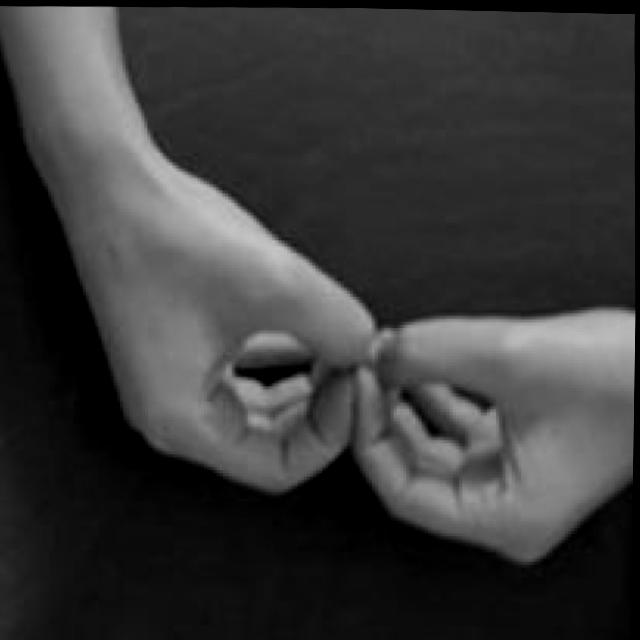B: (88, 139, 638, 580)
